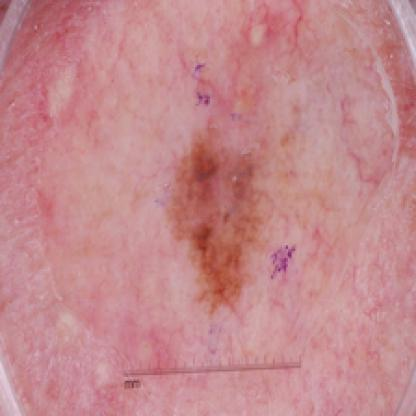malignant: (141, 52, 331, 312), (15, 30, 83, 148)
